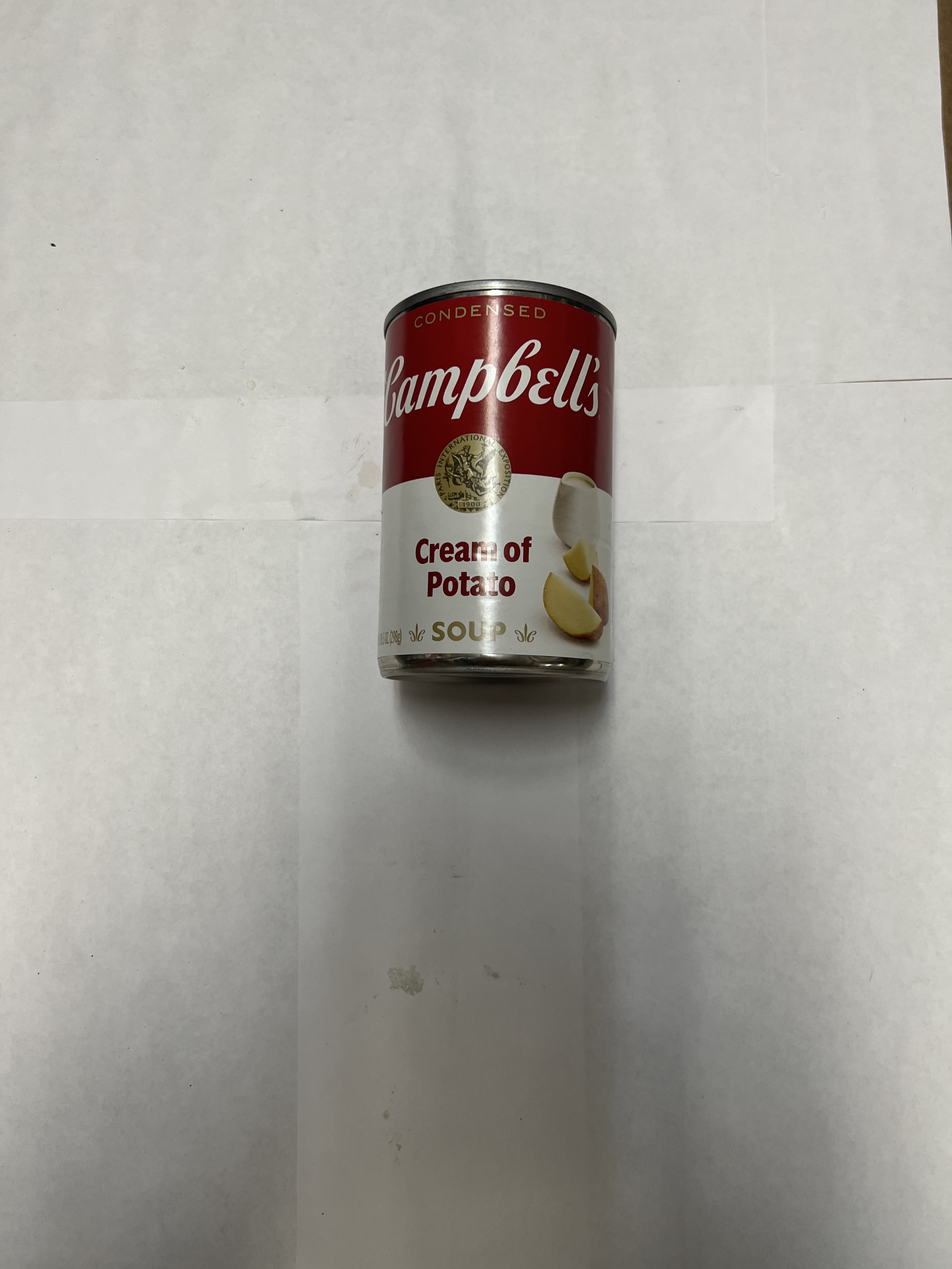packaged: (374, 275, 621, 690)
